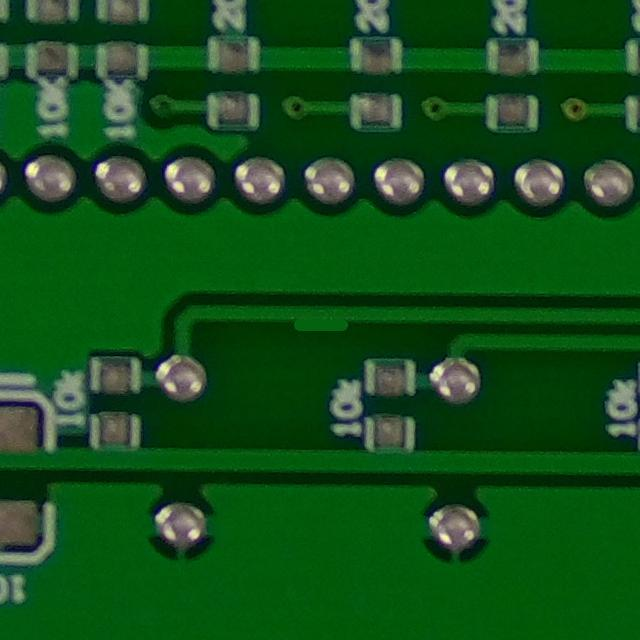spur: (279, 299, 361, 342)
